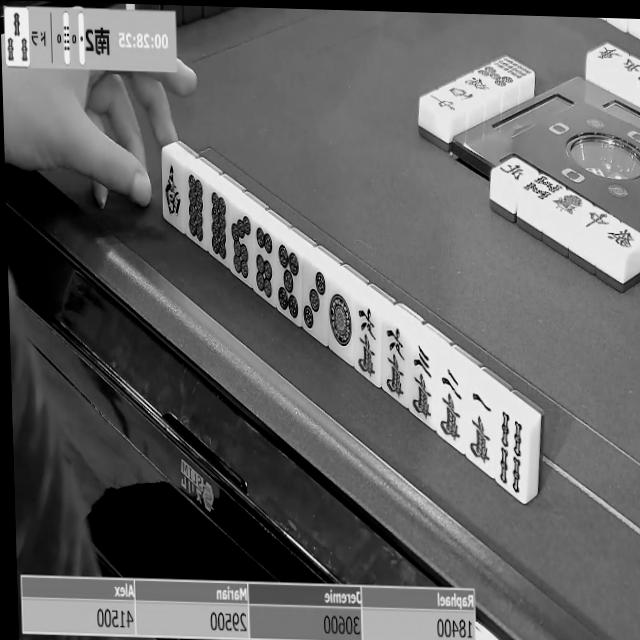m1: (460, 388, 500, 471)
m2: (433, 366, 468, 446)
m3: (410, 340, 437, 423)
m6: (378, 324, 413, 403), (356, 303, 382, 383)
s3: (4, 9, 29, 66)
s4: (491, 408, 529, 502)
south: (164, 159, 189, 226)
t1: (325, 285, 357, 359)
t3: (299, 264, 330, 339)
t5: (274, 245, 304, 324)
t6: (248, 224, 281, 304)
t7: (226, 209, 258, 286)
t8: (179, 171, 208, 246), (204, 190, 231, 265)
